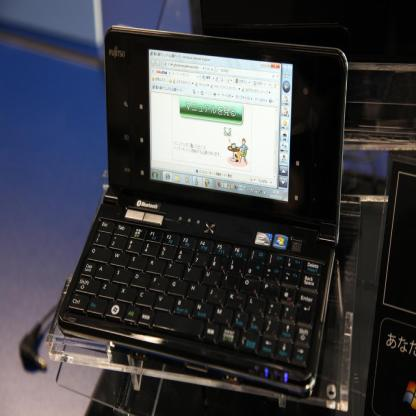board: (56, 23, 348, 398)
